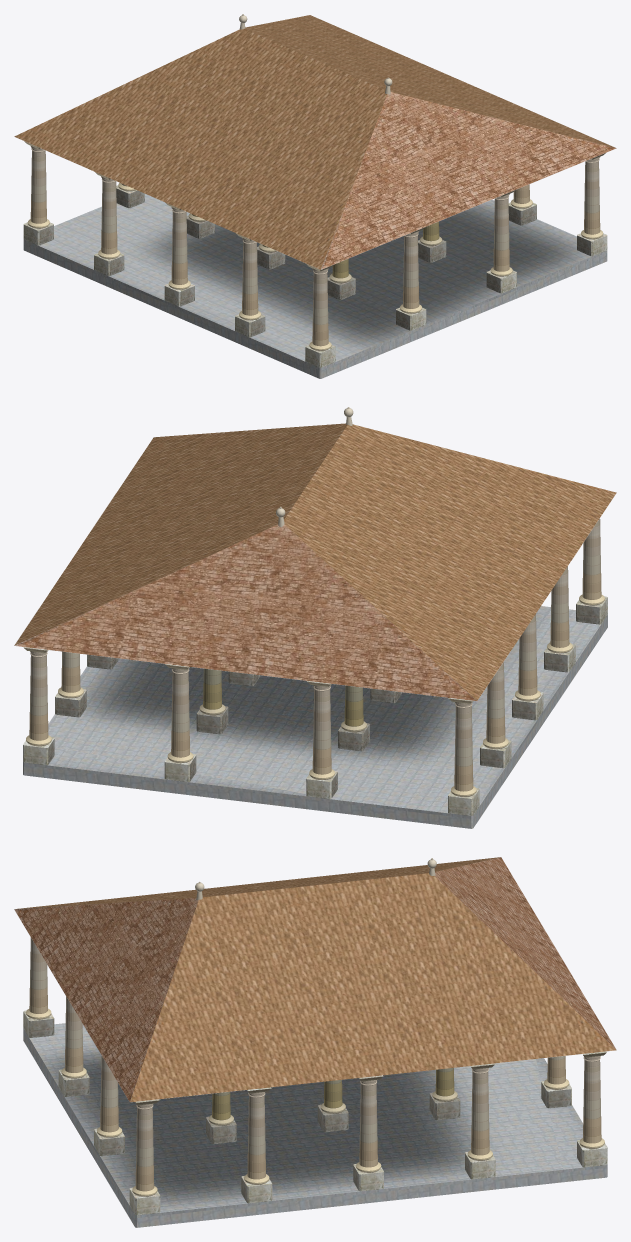
3 renders of one model, top to bottom at view 1: azimuth 30°, elevation 25°; view 2: azimuth 150°, elevation 25°; view 3: azimuth 270°, elevation 25°, orthographic. The views are drawn at different scales.
Visible parts, largest first — view 1: group_7.015_ID609, group_0_ID652, group_7.014_ID589, group_0.042_ID1102, group_0.052_ID1202, group_0.027_ID952, group_0.012_ID802, group_0.058_ID1262, group_0.037_ID1052, group_0.004_ID707, group_0.016_ID842, group_0.029_ID972; view 2: group_7.015_ID609, group_0_ID652, group_7.016_ID624, group_0.135_ID1542, group_0.123_ID1422, group_0.037_ID1052, group_0.114_ID1332, group_0.027_ID952, group_0.052_ID1202, group_0.058_ID1262, group_0.042_ID1102, group_5.003_ID340 (+5 smaller); view 3: group_7.015_ID609, group_0_ID652, group_7.014_ID589, group_7.016_ID624, group_0.147_ID1662, group_0.131_ID1502, group_0.135_ID1542, group_0.157_ID1762, group_0.004_ID707, group_0.012_ID802, group_0.027_ID952, group_0.016_ID842 (+13 smaller).
Boxes of the visible parts, x1,y1,x2,y2 form: group_7.015_ID609: (14, 15, 615, 269); group_0_ID652: (23, 194, 607, 378); group_7.014_ID589: (321, 92, 616, 269); group_0.042_ID1102: (101, 181, 117, 254); group_0.052_ID1202: (171, 211, 187, 284); group_0.027_ID952: (312, 273, 328, 346); group_0.012_ID802: (493, 198, 509, 271); group_0.058_ID1262: (242, 242, 258, 315); group_0.037_ID1052: (30, 150, 46, 223); group_0.004_ID707: (584, 161, 600, 234); group_0.016_ID842: (403, 235, 419, 308); group_0.029_ID972: (305, 345, 335, 367); group_7.015_ID609: (14, 423, 616, 700); group_0_ID652: (23, 606, 607, 828); group_7.016_ID624: (14, 524, 476, 701); group_0.135_ID1542: (29, 655, 48, 740); group_0.123_ID1422: (312, 689, 331, 774); group_0.037_ID1052: (454, 706, 473, 791); group_0.114_ID1332: (171, 672, 189, 757); group_0.027_ID952: (582, 518, 601, 599); group_0.052_ID1202: (518, 614, 537, 695); group_0.058_ID1262: (550, 566, 569, 647); group_0.042_ID1102: (486, 662, 505, 743); group_5.003_ID340: (344, 685, 363, 726); group_7.015_ID609: (17, 857, 616, 1102); group_0_ID652: (23, 1023, 607, 1227); group_7.014_ID589: (14, 898, 198, 1101); group_7.016_ID624: (435, 857, 616, 1049); group_0.147_ID1662: (359, 1083, 377, 1167); group_0.131_ID1502: (471, 1071, 489, 1155); group_0.135_ID1542: (583, 1059, 601, 1143); group_0.157_ID1762: (247, 1095, 265, 1179); group_0.004_ID707: (135, 1107, 154, 1191); group_0.012_ID802: (100, 1056, 118, 1132); group_0.027_ID952: (29, 937, 47, 1013); group_0.016_ID842: (64, 996, 83, 1072).
Bounding box in the file's own units: 20.13 × 9.15 × 20.91.
Materials: 20 (15 with a texture image).
